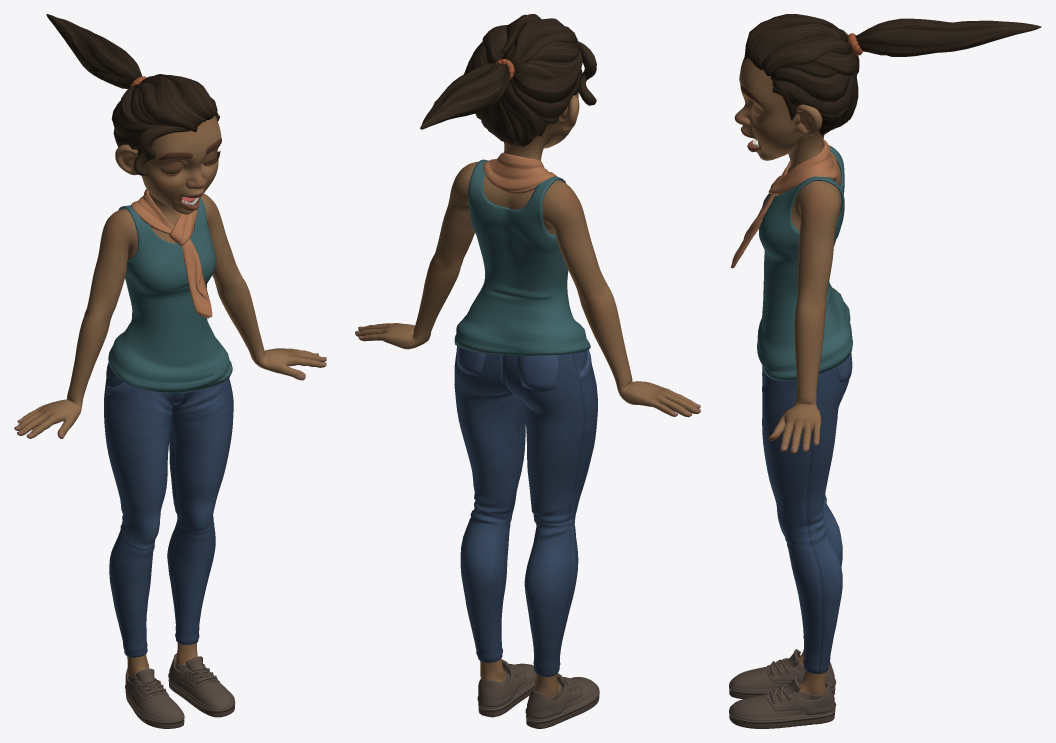
Rendered from rain.glb.
3 views of the same model, side by side, from view 1: azimuth 30°, elevation 25°; view 2: azimuth 150°, elevation 25°; view 3: azimuth 270°, elevation 25° (orthographic). The views are drawn at different scales.
Visible parts, largest first — view 1: jeans, top, body, head, hair_main, shoes, hair_ponytail, scarf, hair_strand; view 2: jeans, body, top, hair_main, shoes, hair_ponytail, scarf, head, hair_strand; view 3: jeans, body, top, hair_main, shoes, head, hair_ponytail, scarf.
Part boxes in pixels (x1,y1,x2,y2): jeans: (104, 362, 233, 657); top: (108, 197, 232, 393); body: (14, 193, 326, 677); head: (115, 115, 221, 221); hair_main: (111, 74, 219, 155); shoes: (125, 653, 235, 728); hair_ponytail: (46, 14, 141, 88); scarf: (131, 188, 212, 318); hair_strand: (133, 126, 190, 175); jeans: (454, 346, 597, 676); body: (355, 161, 700, 697); top: (454, 159, 590, 355); hair_main: (464, 14, 582, 146); shoes: (477, 659, 599, 728); hair_ponytail: (420, 63, 510, 129); scarf: (483, 152, 556, 194); head: (504, 92, 579, 160); hair_strand: (576, 41, 596, 105); jeans: (762, 323, 852, 673); body: (768, 162, 841, 695); top: (757, 145, 852, 380); hair_main: (744, 14, 859, 135); shoes: (729, 649, 836, 728); head: (734, 57, 824, 171); hair_ponytail: (855, 18, 1041, 56); scarf: (731, 139, 838, 268).
Size of the model in its own units: 0.859 by 1.65 by 0.6809.
13 materials, 6 textured.
